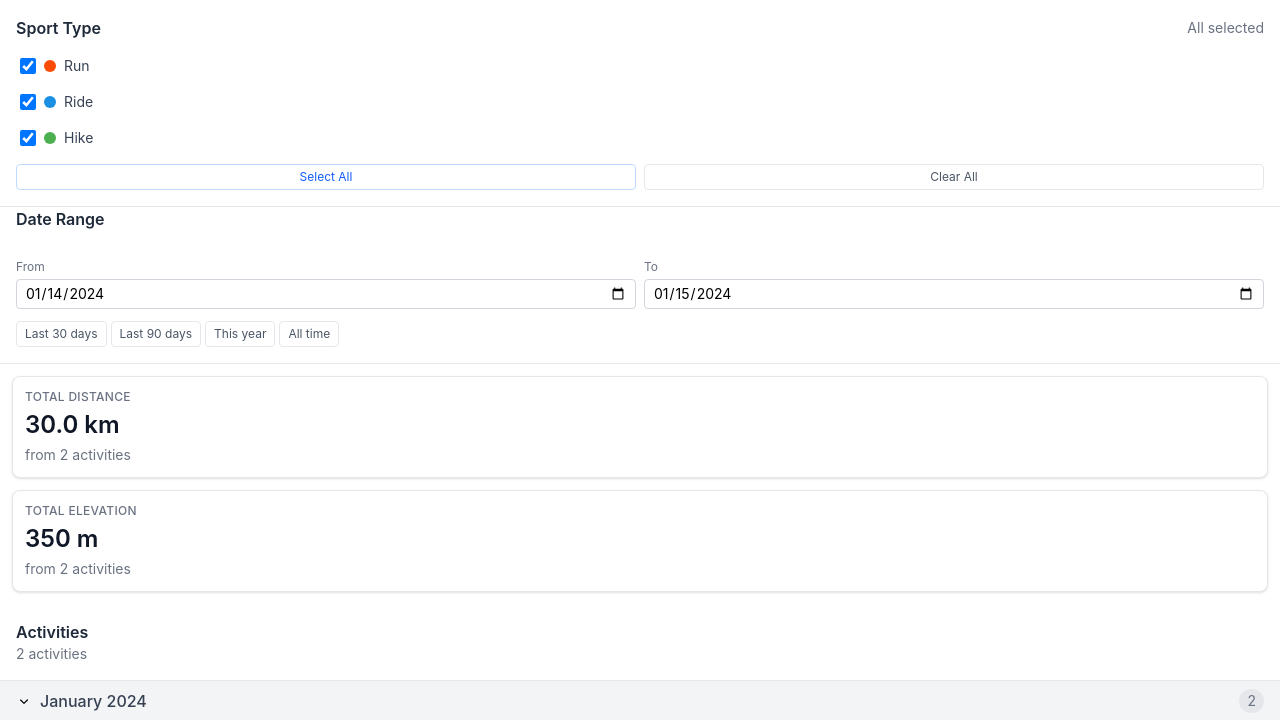
Scenario: SidebarPanel › clears date filter when All time is clicked
The image size is (1280, 720).
Expected: the text "2 activities" is shown, [16, 645, 87, 662]
Note: Click "All time" to clear the filter
What coordinates should you click on to do the following:
click the button "All time"
I would click on:
 (309, 334)
Its box is [279, 321, 339, 347].
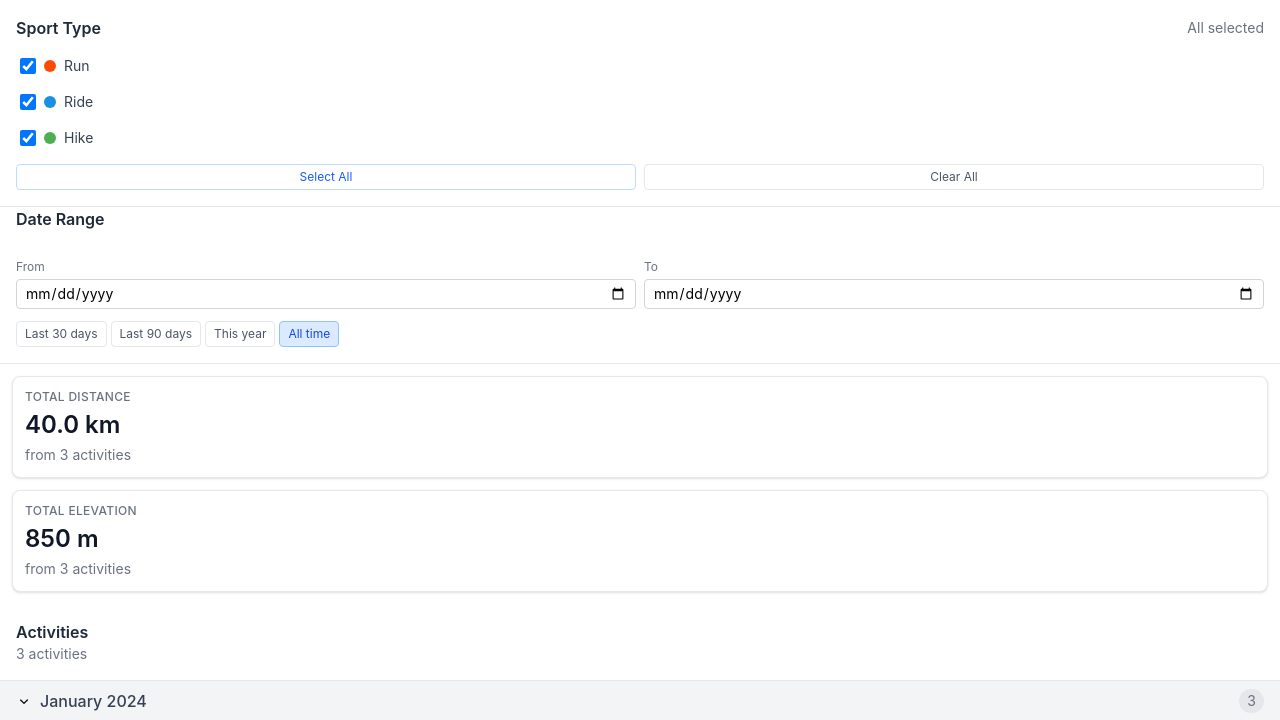
Expected: the text "3 activities" is shown, [16, 645, 87, 662]
